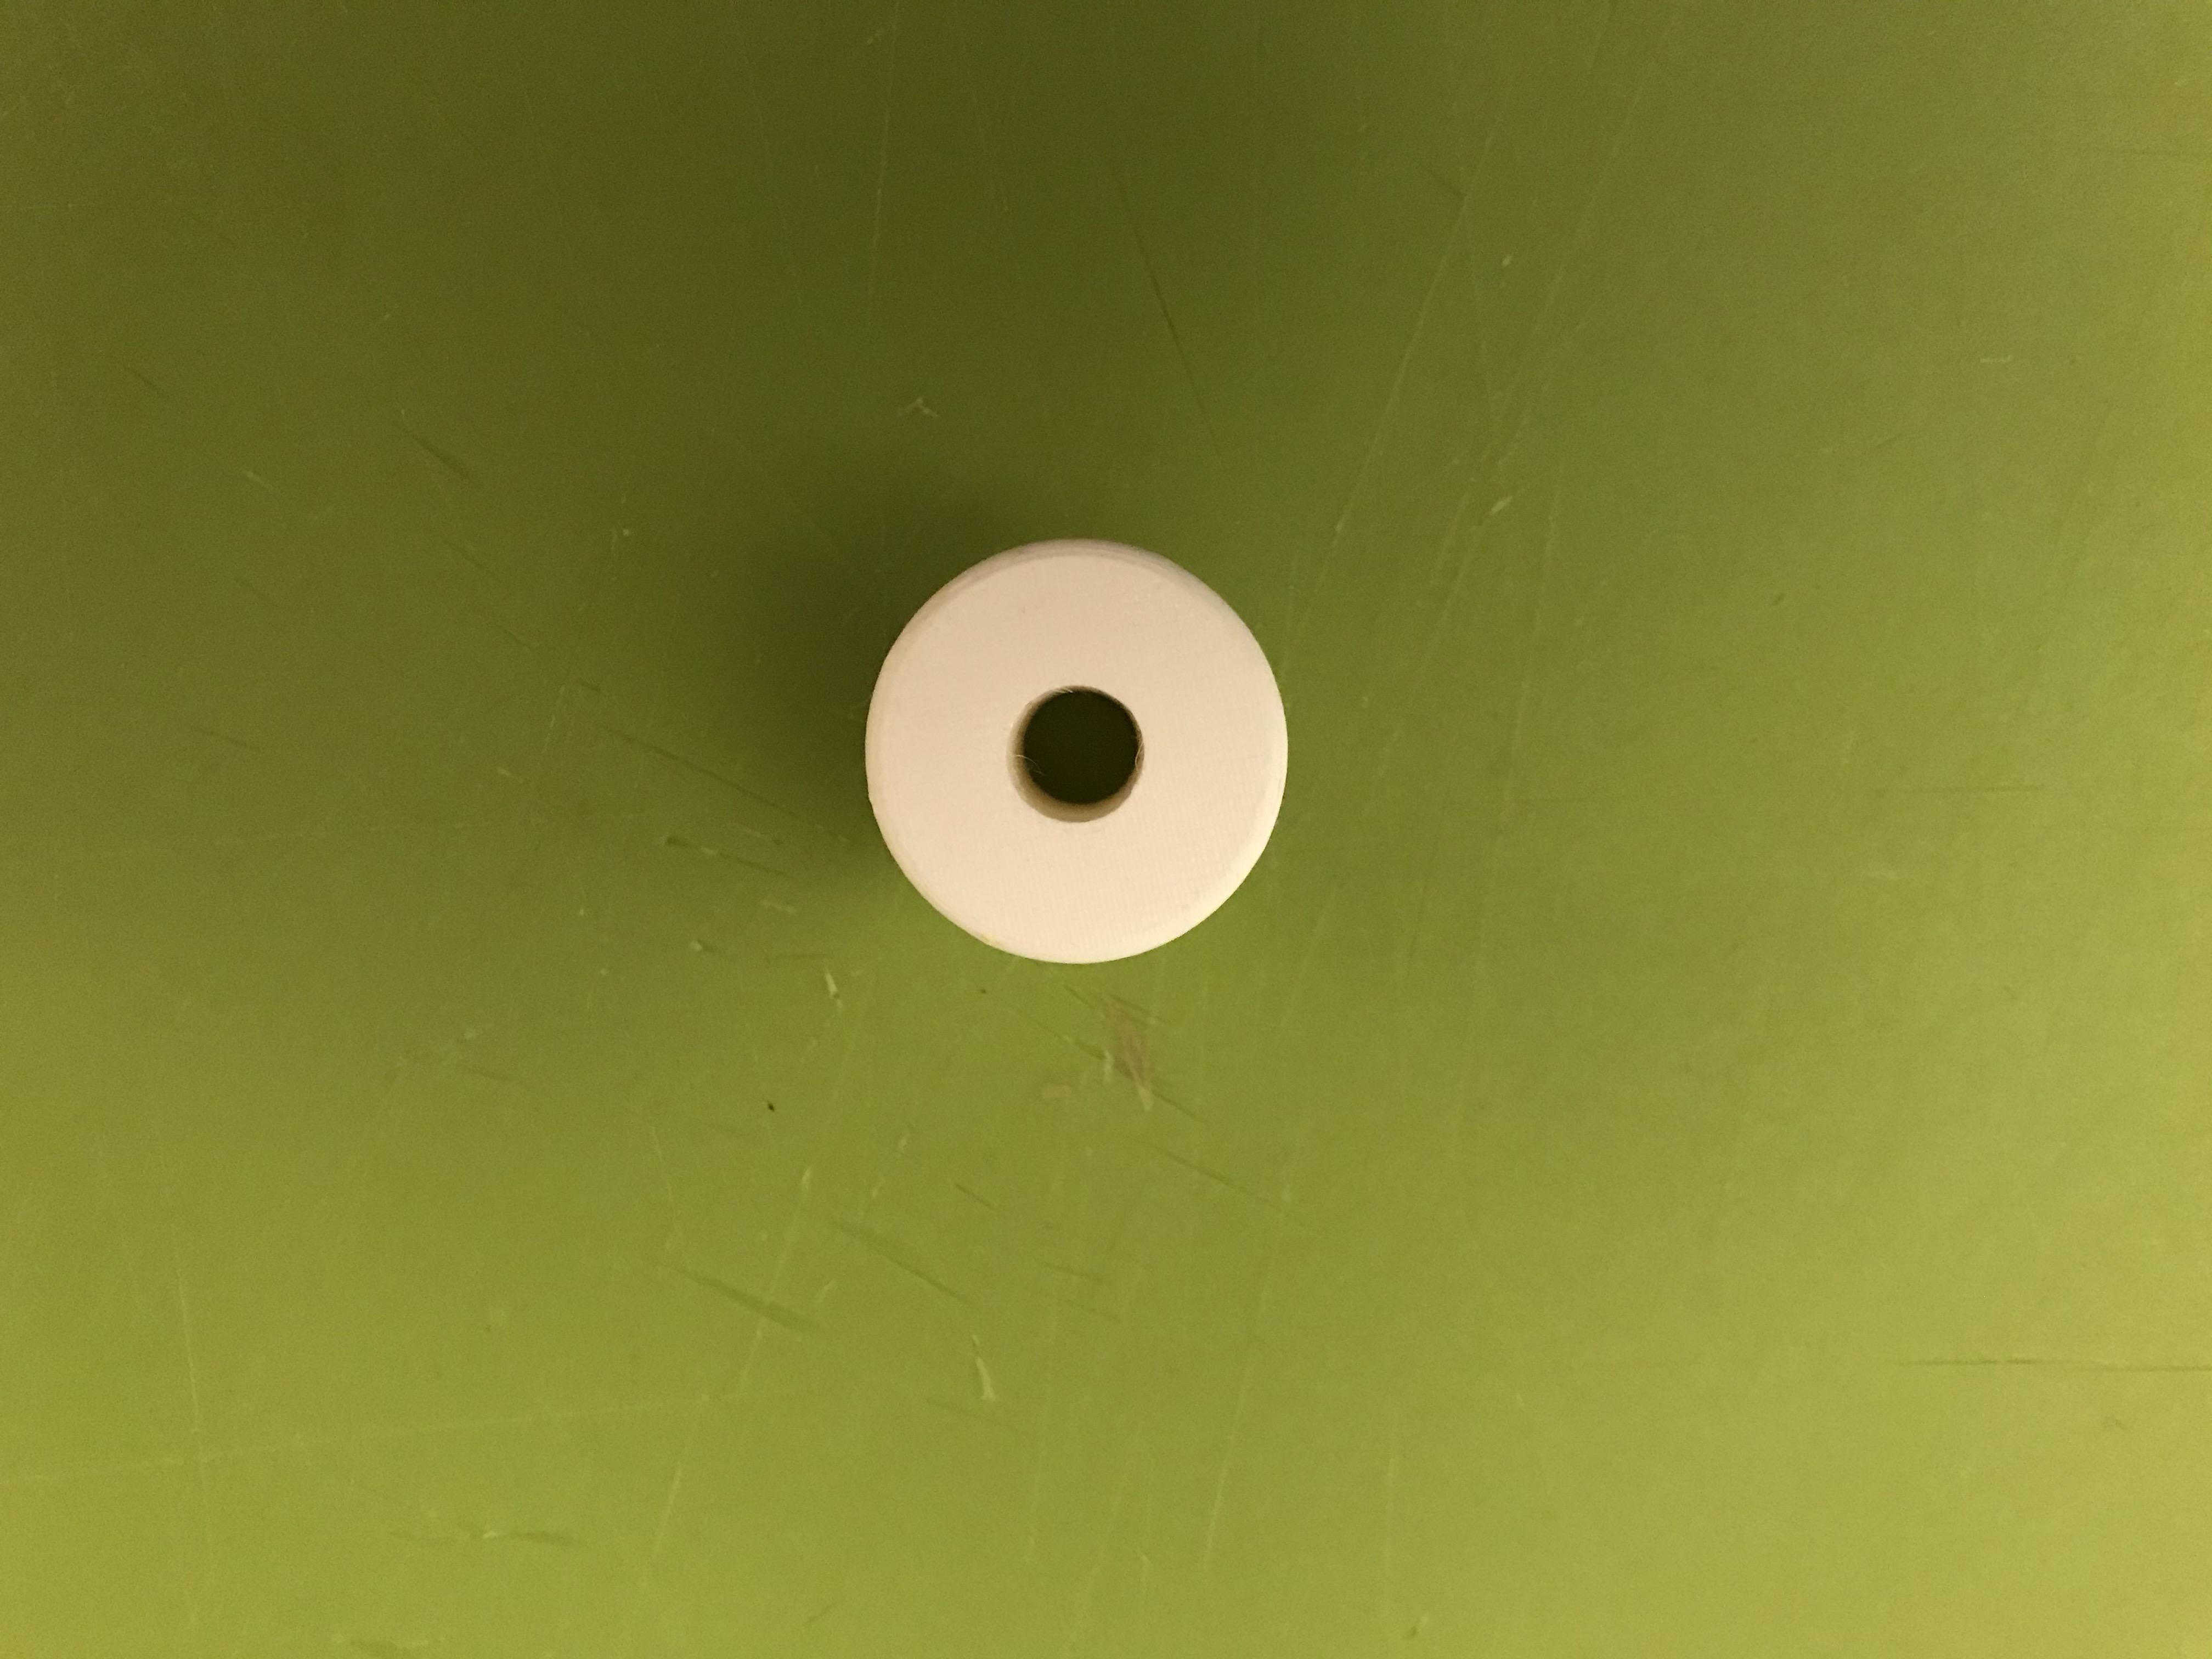White Cone: (853, 545, 1325, 979)
